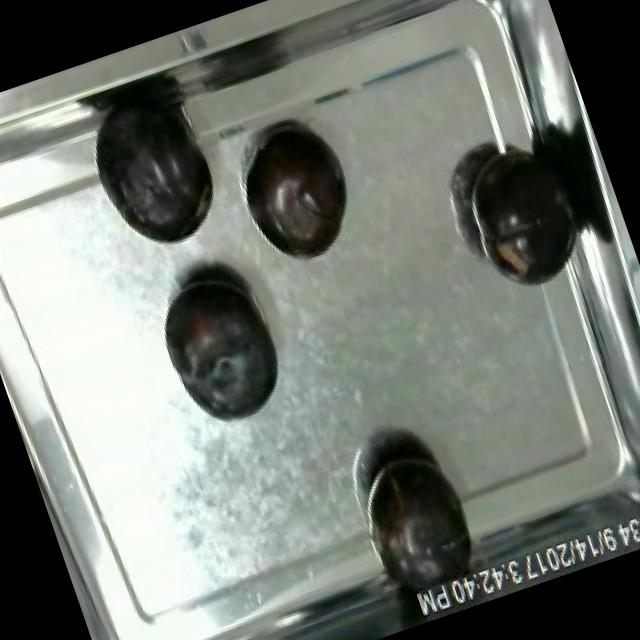Fruit: (442, 124, 604, 310), (142, 253, 300, 442), (71, 81, 233, 265), (340, 426, 498, 614), (232, 115, 371, 273)
